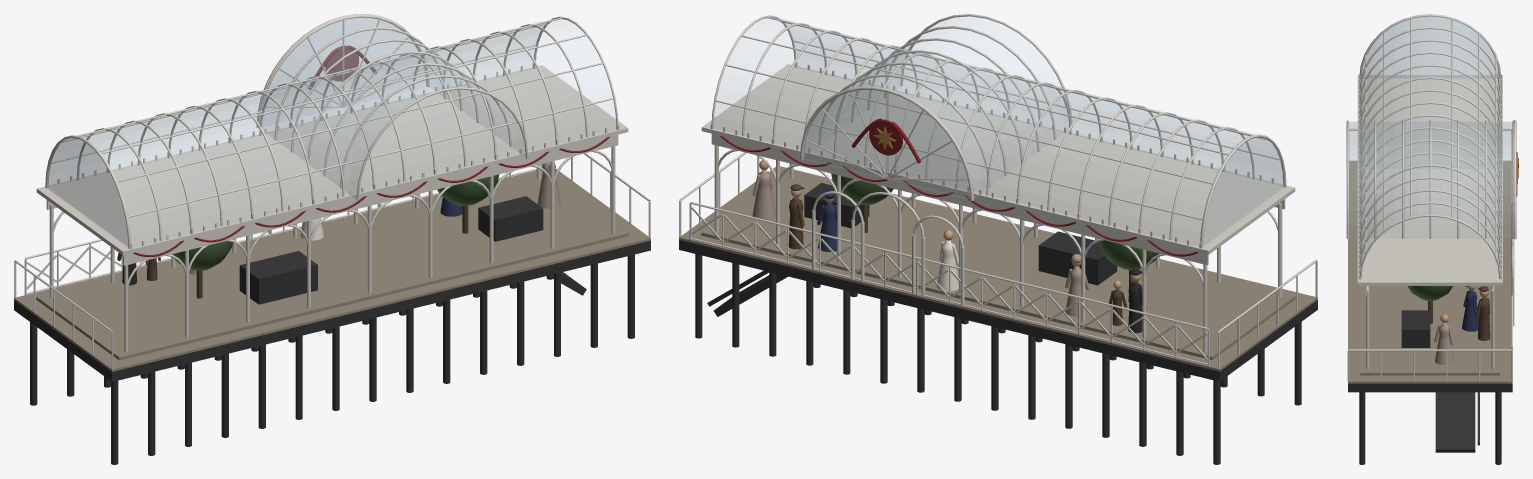
File: scan-fig73-centenary-model-1951-muse.glb
The picture shows the model from 3 angles, left to right: view 1: azimuth 30°, elevation 25°; view 2: azimuth 150°, elevation 25°; view 3: azimuth 270°, elevation 25°; orthographic projection. The views are drawn at different scales.
Parts seen in each view (by area): view 1: NaveGlass, Cornice, PavilionFloor, TranseptGlass, DeckFloor, DeckSlab, FriezeBoardB, NaveEndFan, TranseptFan, DisplayBlockA, DisplayBlockB, Purlin3 (+30 smaller); view 2: NaveGlass, Cornice, PavilionFloor, TranseptGlass, TranseptFan, DeckFloor, DeckSlab, FriezeBoardF, NaveEndFan, DisplayBlockA, RailTop-7.0, TranseptRim (+38 smaller); view 3: Cornice, NaveGlass, TranseptGlass, PavilionFloor, DeckFloor, NaveEndFan, StairRun, DeckSlab, DisplayBlockB, VisitorWoman4_Body, VaultRib16, UndercroftCol14_-1 (+39 smaller).
Part boxes in pixels (x1,y1,x2,y2): NaveGlass: (76, 19, 615, 246); Cornice: (36, 65, 628, 255); PavilionFloor: (36, 173, 628, 360); TranseptGlass: (267, 17, 525, 197); DeckFloor: (14, 169, 650, 371); DeckSlab: (14, 240, 650, 381); FriezeBoardB: (123, 135, 618, 265); NaveEndFan: (47, 138, 127, 246); TranseptFan: (269, 17, 417, 87); DisplayBlockA: (239, 251, 317, 304); DisplayBlockB: (478, 196, 543, 241); Purlin3: (100, 34, 587, 153); NaveGlass: (714, 17, 1255, 246); Cornice: (701, 64, 1295, 254); PavilionFloor: (701, 172, 1295, 359); TranseptGlass: (842, 16, 1063, 197); TranseptFan: (804, 90, 969, 199); DeckFloor: (679, 166, 1317, 371); DeckSlab: (679, 240, 1317, 381); FriezeBoardF: (711, 133, 1208, 265); NaveEndFan: (1203, 137, 1284, 246); DisplayBlockA: (1038, 231, 1117, 285); RailTop-7.0: (690, 202, 1209, 329); TranseptRim: (800, 86, 973, 200); Cornice: (1357, 75, 1502, 285); NaveGlass: (1361, 16, 1499, 263); TranseptGlass: (1346, 122, 1512, 237); PavilionFloor: (1360, 286, 1500, 375); DeckFloor: (1348, 160, 1512, 383); NaveEndFan: (1362, 16, 1498, 78); StairRun: (1435, 392, 1475, 452); DeckSlab: (1348, 383, 1512, 392); DisplayBlockB: (1401, 310, 1430, 347); VisitorWoman4_Body: (1435, 322, 1454, 364); VaultRib16: (1360, 214, 1500, 279); UndercroftCol14_-1: (1359, 392, 1365, 464).
Size of the model in its own units: 14.61 by 7.85 by 4.82.
